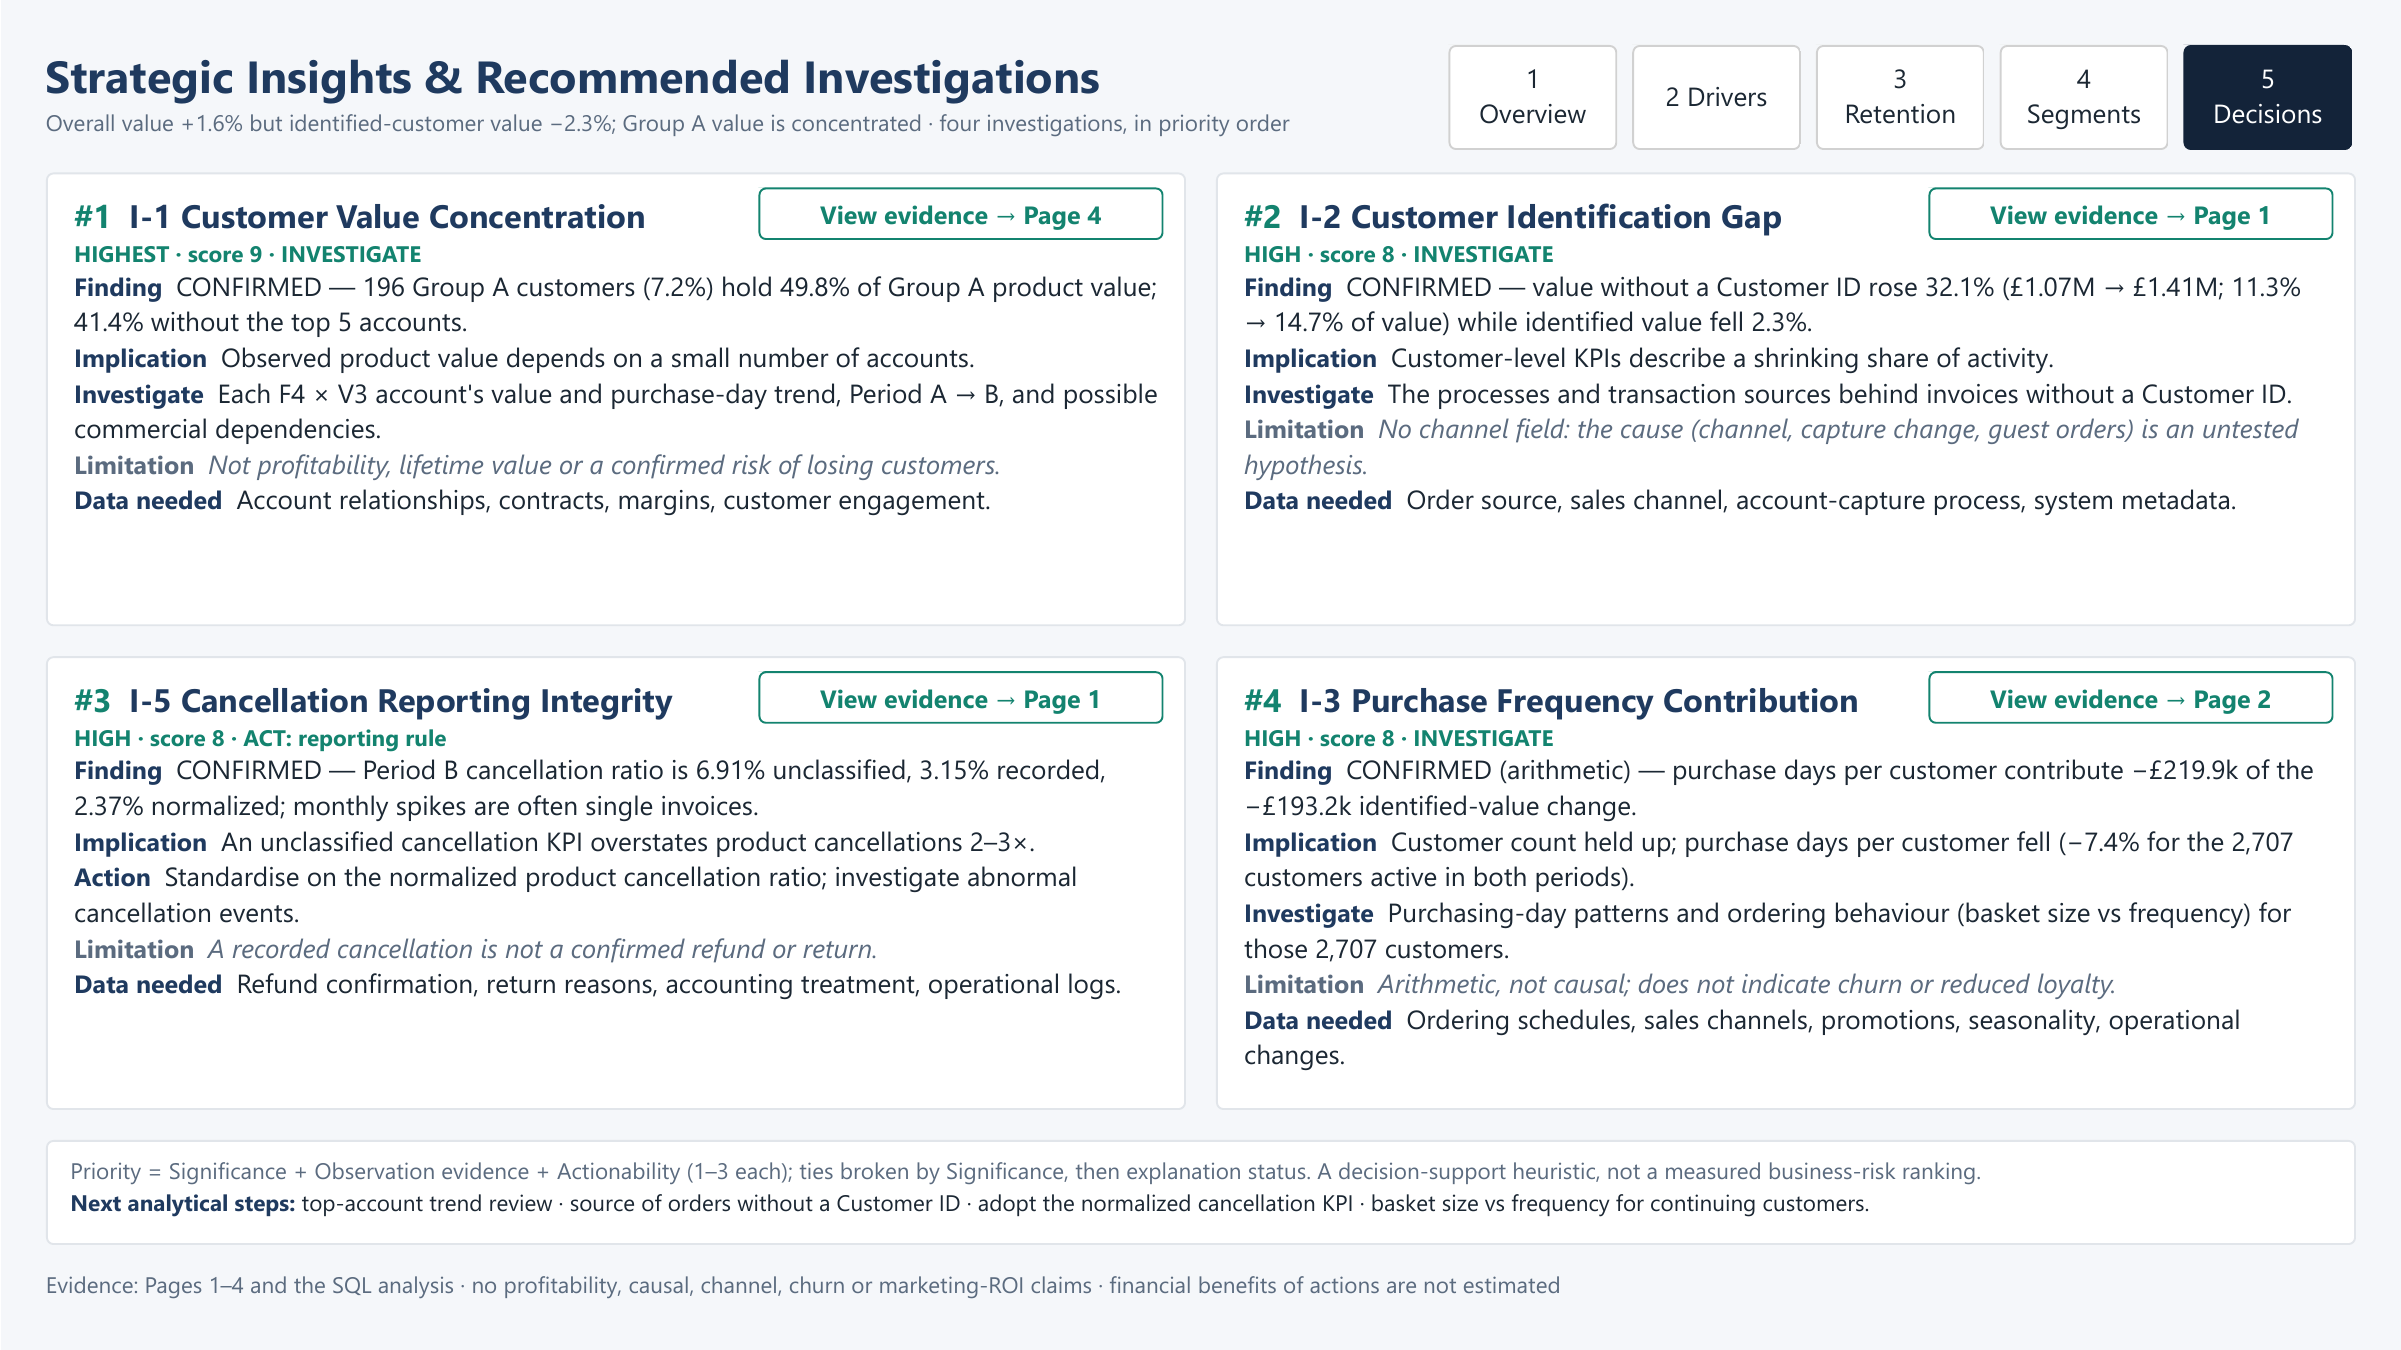

This screenshot's page, from the dashboard's own definition file:
{"tool":"powerbi","page":{"name":"5 Decisions","canvas":[1280,720],"ordinal":4},"visuals":[{"type":"textbox","box":[24,24,740,56],"z":10},{"type":"pageNavigator","box":[772,24,484,56],"z":22},{"type":"textbox","box":[24,92,608,242],"z":41},{"type":"textbox","box":[648,92,608,242],"z":42},{"type":"textbox","box":[24,350,608,242],"z":43},{"type":"textbox","box":[648,350,608,242],"z":44},{"type":"textbox","box":[24,608,1232,56],"z":50},{"type":"textbox","box":[24,676,1232,20],"z":60},{"type":"actionButton","box":[404,100,216,28],"z":70},{"type":"actionButton","box":[1028,100,216,28],"z":71},{"type":"actionButton","box":[404,358,216,28],"z":72},{"type":"actionButton","box":[1028,358,216,28],"z":73}]}

Visuals, with their boxes in screenshot pixels (x1, y1, x2, y2), scaled from the page's 1280x720 canvas onto the 2401x1350 screenshot:
textbox: Rect(45, 45, 1433, 150)
pageNavigator: Rect(1448, 45, 2356, 150)
textbox: Rect(45, 172, 1185, 626)
textbox: Rect(1216, 172, 2356, 626)
textbox: Rect(45, 656, 1185, 1110)
textbox: Rect(1216, 656, 2356, 1110)
textbox: Rect(45, 1140, 2356, 1245)
textbox: Rect(45, 1268, 2356, 1305)
actionButton: Rect(758, 188, 1163, 240)
actionButton: Rect(1928, 188, 2333, 240)
actionButton: Rect(758, 671, 1163, 724)
actionButton: Rect(1928, 671, 2333, 724)
